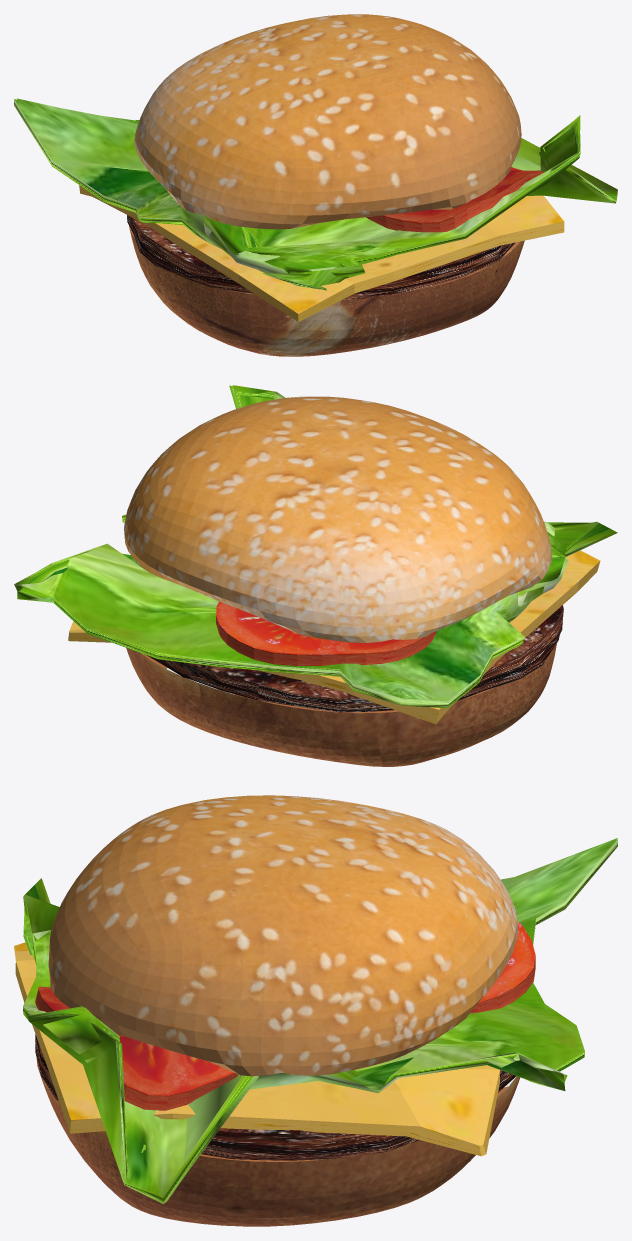
Rendered from burger.fbx.
The picture shows the model from 3 angles, top to bottom: view 1: azimuth 30°, elevation 25°; view 2: azimuth 150°, elevation 25°; view 3: azimuth 270°, elevation 25°; orthographic projection. The views are drawn at different scales.
Visible parts, largest first — view 1: top bun, Cube.001, bottom bun, cheese, meat, Cylinder.001; view 2: top bun, Cube.001, bottom bun, meat, Cylinder, cheese; view 3: top bun, Cube.001, bottom bun, cheese, Cylinder.001, meat, Cylinder.
Part boxes in pixels (x1,y1,x2,y2): top bun: (134,14,521,229); Cube.001: (14,98,617,290); bottom bun: (129,226,524,356); cheese: (79,185,564,321); meat: (127,215,515,299); Cylinder.001: (366,167,544,232); top bun: (124,396,551,642); Cube.001: (14,385,617,708); bottom bun: (126,643,556,766); meat: (146,605,563,712); Cylinder: (216,601,436,665); cheese: (68,550,600,724); top bun: (48,795,517,1076); Cube.001: (23,838,617,1203); bottom bun: (36,1059,520,1226); cheese: (14,942,499,1156); Cylinder.001: (35,986,238,1110); meat: (35,1034,516,1160); Cylinder: (469,921,535,1013).
Size of the model in its own units: 221 by 121 by 206.
7 materials, 7 textured.
